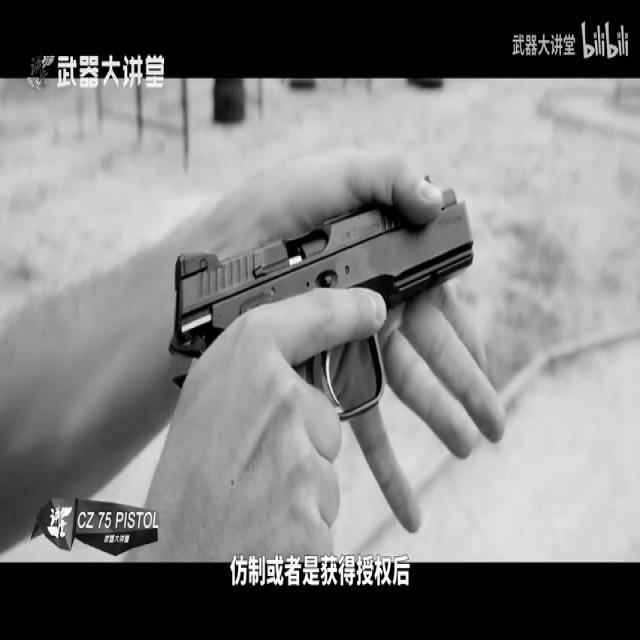Hand-Gun: (92, 0, 591, 556)
